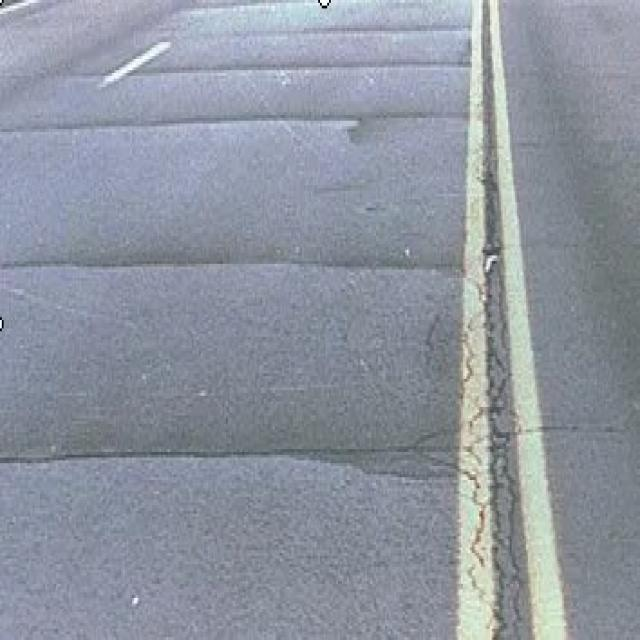Pothole: (459, 14, 535, 629)
